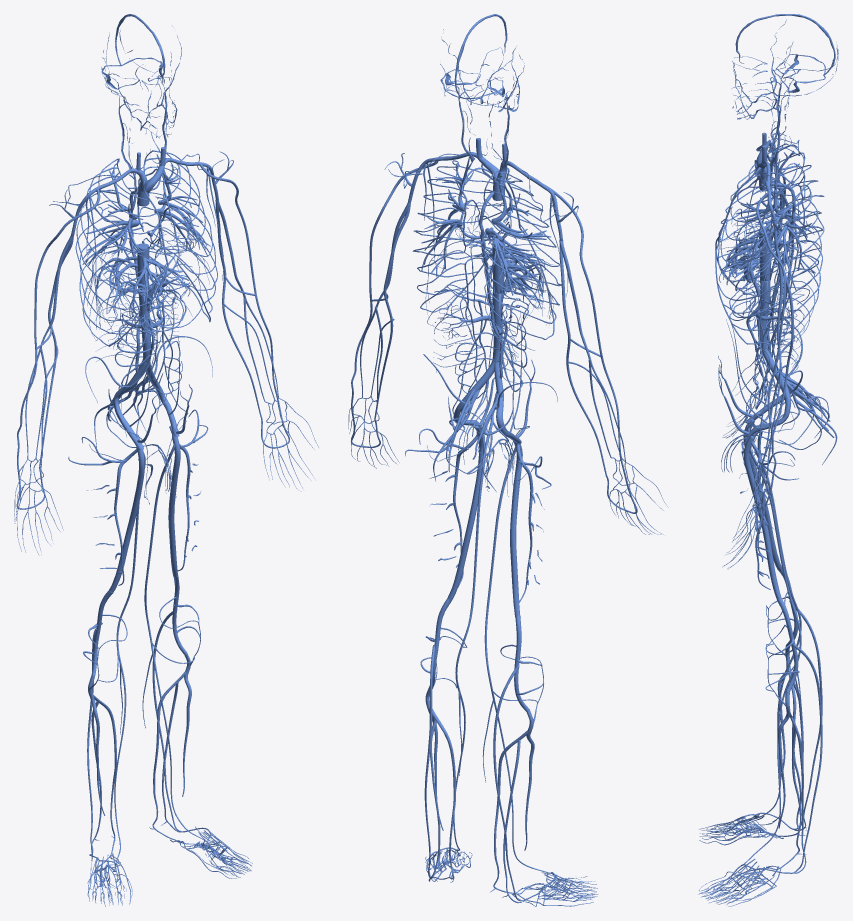
File: vene.glb
The picture shows the model from 3 angles, left to right: view 1: azimuth 30°, elevation 25°; view 2: azimuth 150°, elevation 25°; view 3: azimuth 270°, elevation 25°; orthographic projection. The views are drawn at different scales.
Visible parts, largest first — view 1: FJ1994, FJ1985, FJ2103, FJ2145, FJ2102, FJ2144, FJ2272, FJ2220, FJ2218; view 2: FJ1994, FJ1985, FJ2145, FJ2144, FJ2103, FJ2102, FJ2272, FJ2220, FJ2270, FJ2176, FJ2218, FJ2121; view 3: FJ1985, FJ1994, FJ2103, FJ2102, FJ2220, FJ2145, FJ2121, FJ2218, FJ2144, FJ2176, FJ3659, FJ2183 (+12 smaller).
Boxes of the visible parts, x1,y1,x2,y2 form: FJ1994: (75, 158, 167, 345); FJ1985: (139, 150, 217, 320); FJ2103: (142, 444, 204, 840); FJ2145: (114, 452, 145, 861); FJ2102: (168, 434, 180, 578); FJ2144: (109, 448, 144, 594); FJ2272: (17, 188, 100, 480); FJ2220: (199, 163, 281, 416); FJ2218: (215, 200, 260, 414); FJ1994: (480, 171, 561, 350); FJ1985: (412, 160, 509, 326); FJ2145: (482, 447, 548, 873); FJ2144: (510, 441, 522, 617); FJ2103: (453, 441, 486, 850); FJ2102: (448, 430, 483, 602); FJ2272: (545, 185, 629, 489); FJ2220: (351, 161, 438, 422); FJ2270: (559, 240, 607, 476); FJ2176: (493, 665, 537, 901); FJ2218: (374, 205, 410, 419); FJ2121: (424, 645, 435, 877); FJ1985: (717, 163, 824, 347); FJ1994: (717, 143, 824, 300); FJ2103: (744, 448, 802, 863); FJ2102: (743, 436, 781, 599); FJ2220: (756, 192, 785, 507); FJ2145: (744, 427, 802, 820); FJ2121: (782, 644, 822, 873); FJ2218: (765, 248, 794, 489); FJ2144: (743, 419, 782, 570); FJ2176: (781, 609, 822, 829); FJ3659: (757, 279, 770, 350); FJ2183: (777, 691, 790, 828).
Size of the model in its own units: 0.6486 by 1.71 by 0.2558.
